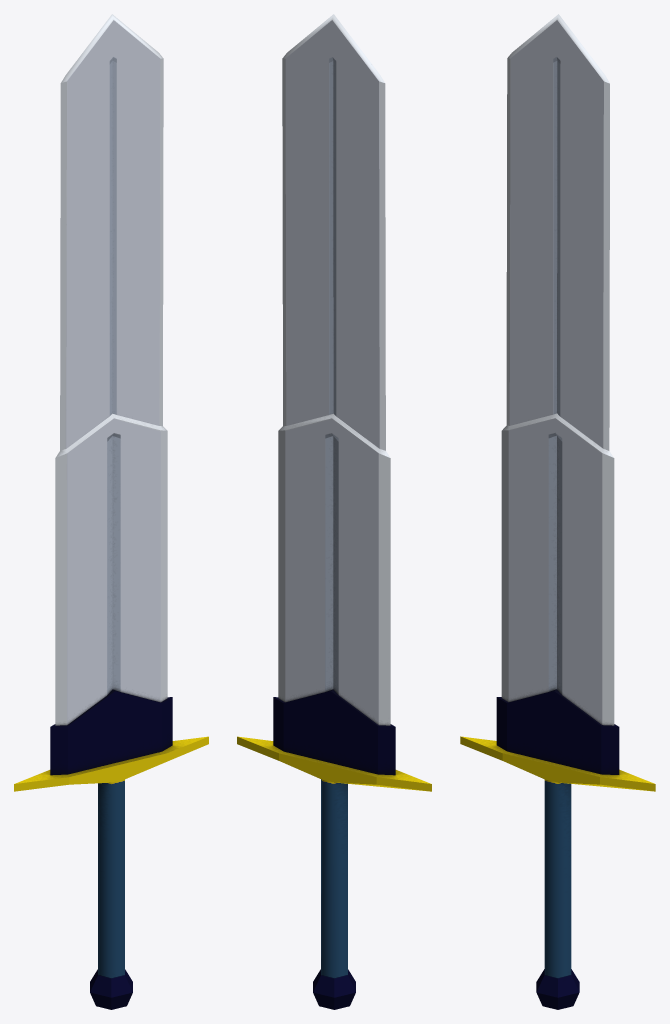
File: espada.FBX
3 views of the same model, side by side, from view 1: azimuth 30°, elevation 25°; view 2: azimuth 150°, elevation 25°; view 3: azimuth 330°, elevation 25° (orthographic).
Visible parts, largest first — view 1: espada; view 2: espada; view 3: espada.
Part boxes in pixels (x1=…): espada: x1=14, y1=14, x2=208, y2=1009; espada: x1=237, y1=14, x2=431, y2=1009; espada: x1=460, y1=14, x2=655, y2=1009.
Size of the model in its own units: 48.72 by 9.34 by 236.
Materials: 1 (1 with a texture image).
